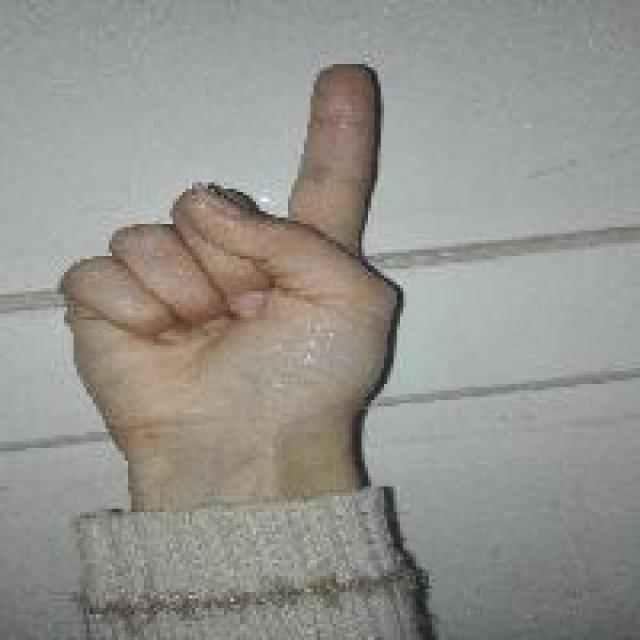Z: (54, 52, 413, 434)
